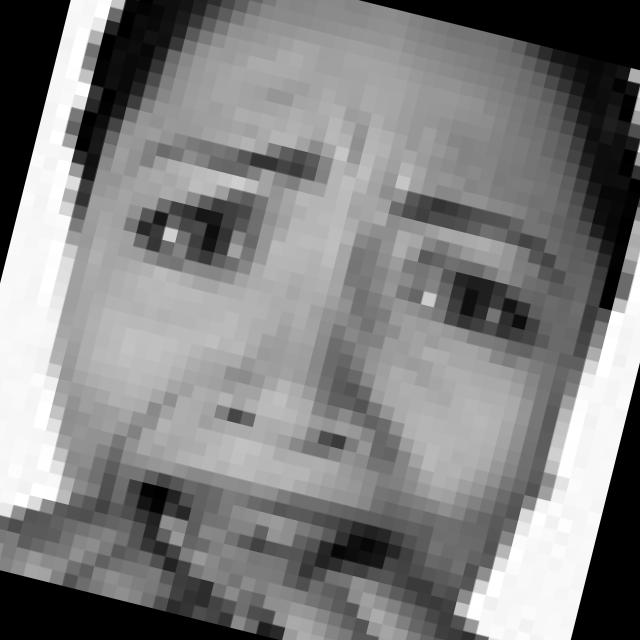fear: (35, 75, 592, 640)
